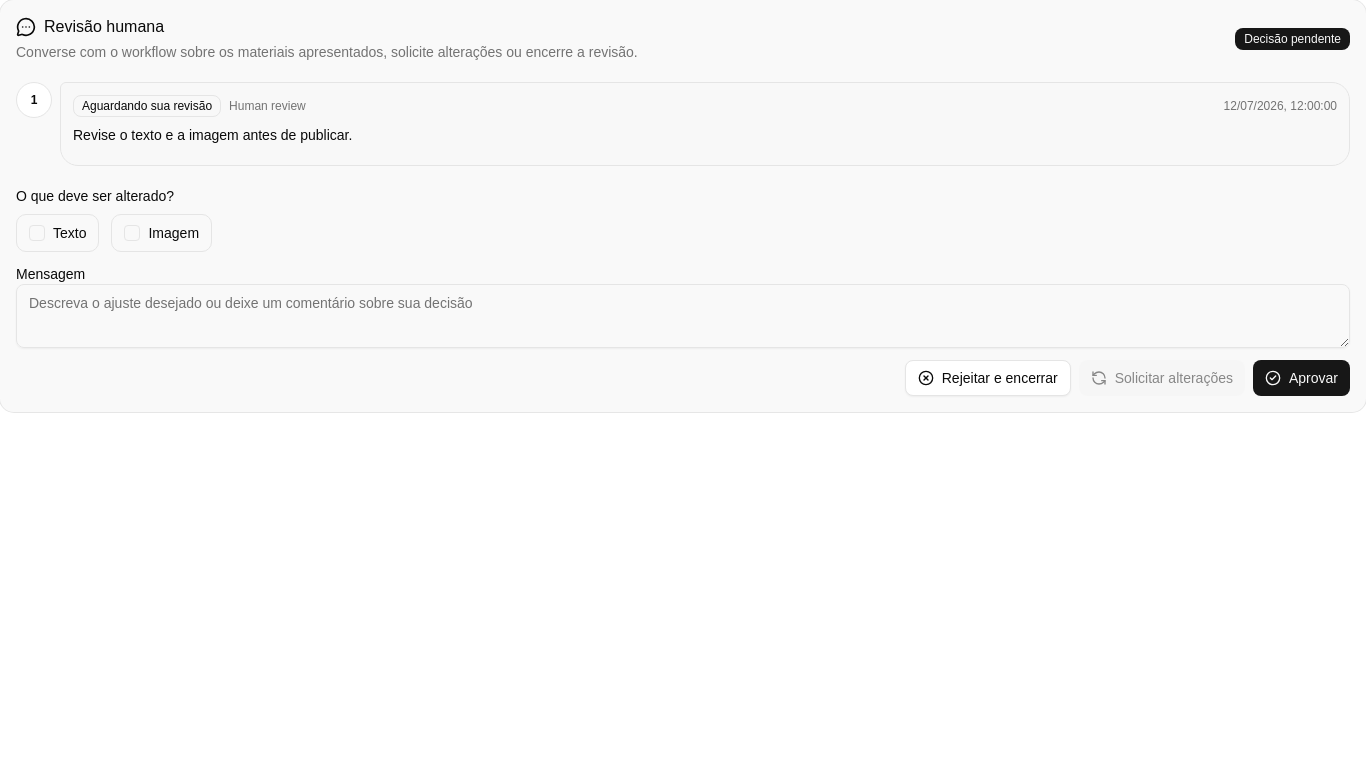
Test: HitlReviewPanel › keeps a catalog-drift resume failure visible with safe next steps
What coordinates should you click on to do the following:
click the button "Aprovar"
I would click on:
 (1302, 378)
Its box is [1253,360,1350,396].
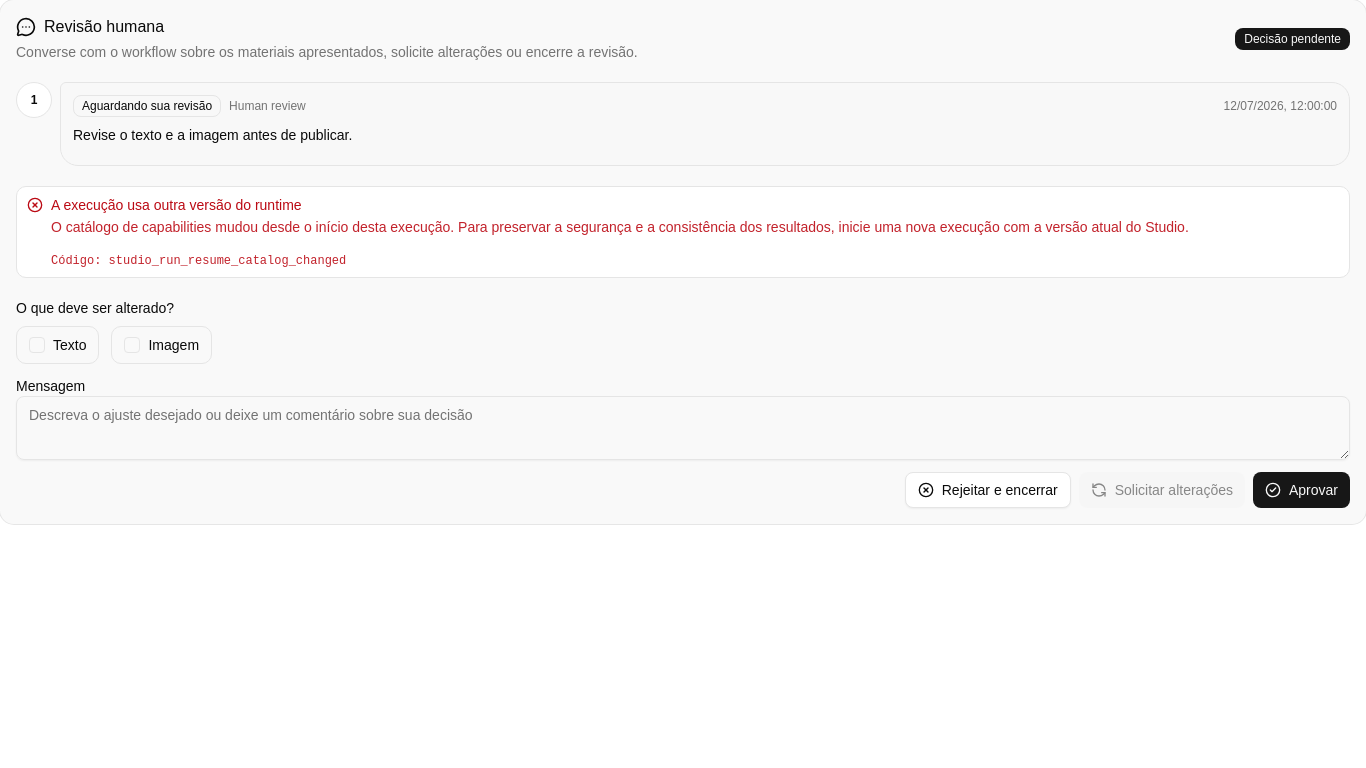
Now the message shows "A execução usa outra versão do runtime", box [51,197,302,213]
Now the message shows "inicie uma nova execução", box [51,219,1189,235]
Now the message shows "studio_run_resume_catalog_changed", box [109,254,346,268]
